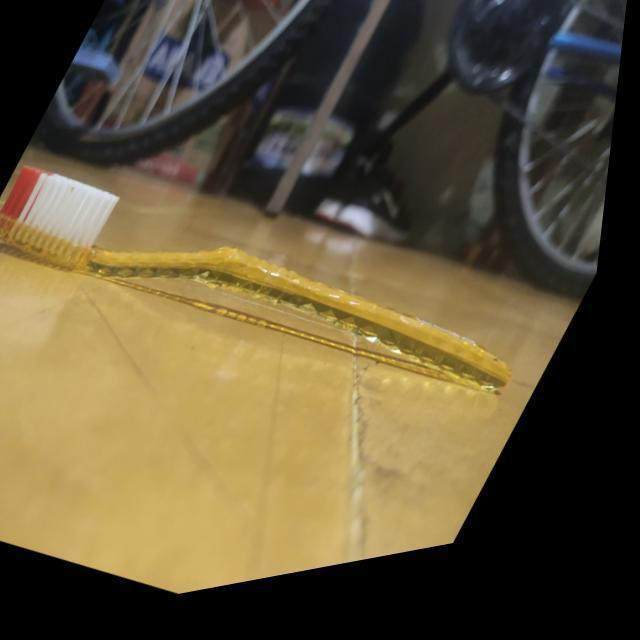toothbrush: (0, 36, 600, 530)
